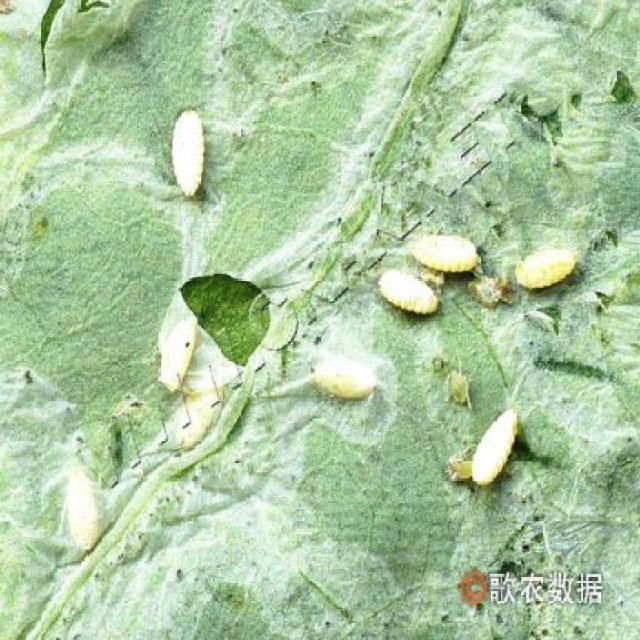whorl-maggot: (469, 398, 526, 491), (164, 102, 216, 198), (308, 346, 383, 411), (375, 257, 440, 326), (505, 241, 586, 294), (411, 223, 478, 279), (60, 468, 102, 549), (156, 314, 198, 395)
